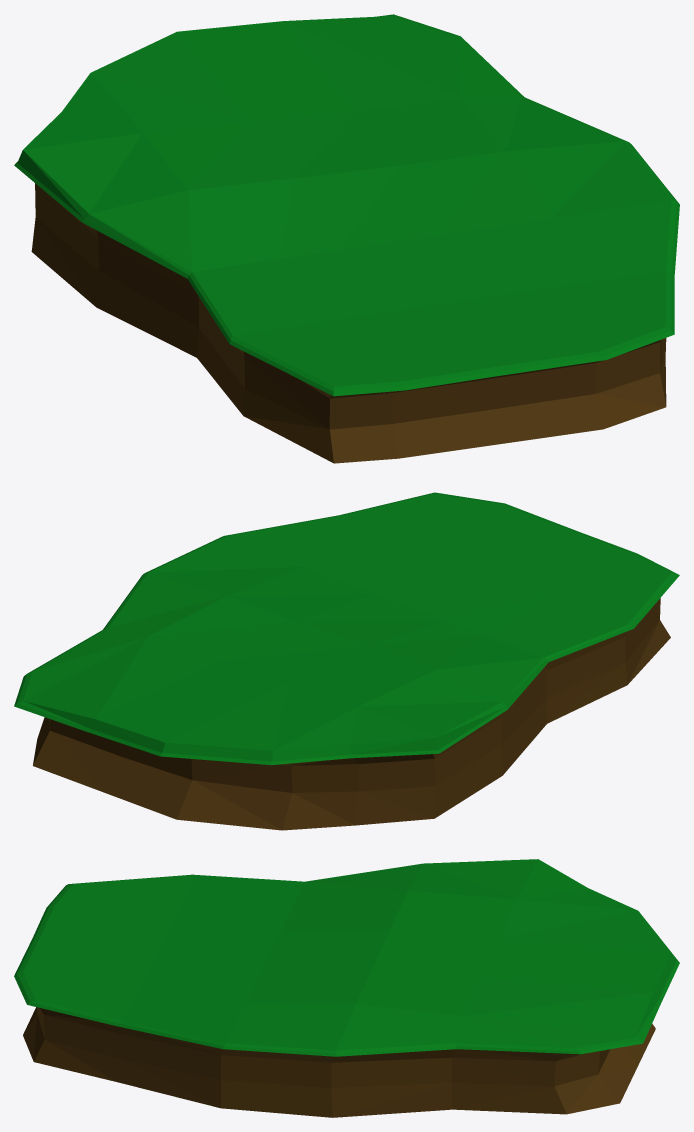
The model's file is Grondstuk_2.fbx.
The picture shows the model from 3 angles, top to bottom: view 1: azimuth 30°, elevation 25°; view 2: azimuth 150°, elevation 25°; view 3: azimuth 270°, elevation 25°; orthographic projection. The views are drawn at different scales.
Parts seen in each view (by area): view 1: Grondstuk_2; view 2: Grondstuk_2; view 3: Grondstuk_2.
Boxes of the visible parts, x1,y1,x2,y2 form: Grondstuk_2: (14,14,679,463); Grondstuk_2: (14,492,679,830); Grondstuk_2: (14,859,679,1117).
Size of the model in its own units: 21.08 by 4.15 by 31.28.
